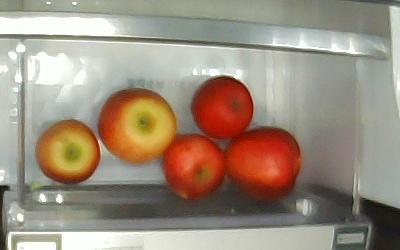apple: (97, 88, 176, 162), (224, 126, 300, 200), (189, 73, 254, 139), (36, 119, 100, 185), (161, 133, 222, 197)
